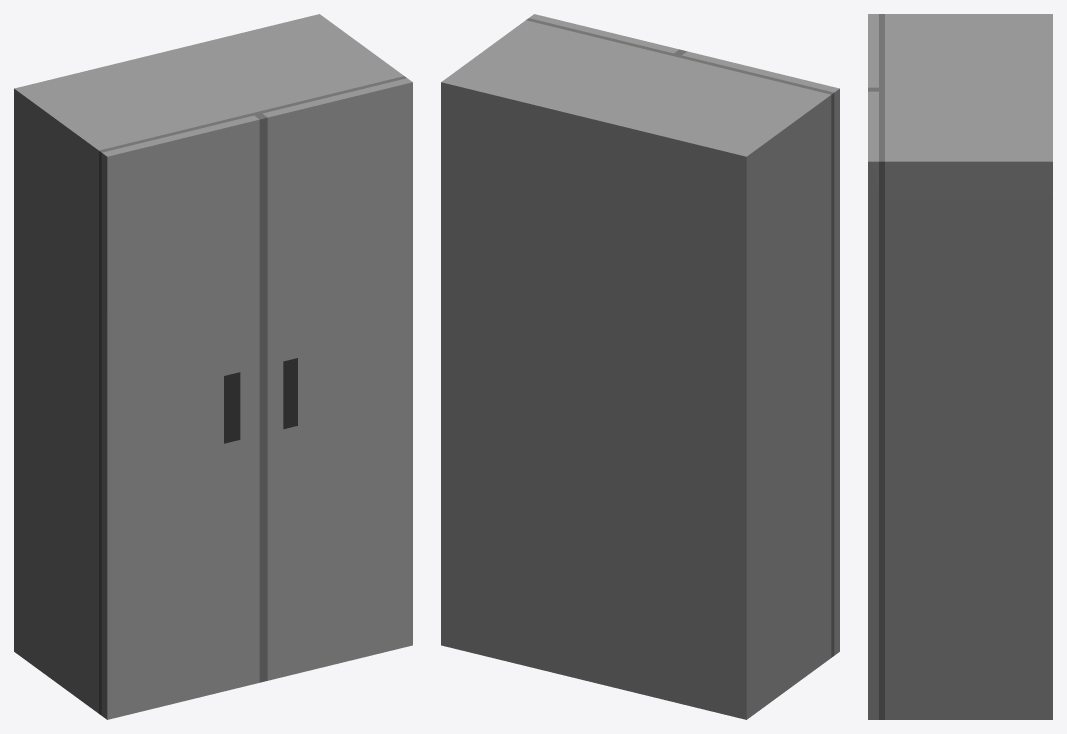
The model's file is Cabinet1.FBX.
3 views of the same model, side by side, from view 1: azimuth 30°, elevation 25°; view 2: azimuth 150°, elevation 25°; view 3: azimuth 270°, elevation 25° (orthographic).
Parts seen in each view (by area): view 1: SM_Cupboard_01; view 2: SM_Cupboard_01; view 3: SM_Cupboard_01.
Part boxes in pixels (x1,y1,x2,y2): SM_Cupboard_01: [14, 14, 412, 719]; SM_Cupboard_01: [441, 14, 839, 719]; SM_Cupboard_01: [868, 14, 1052, 719].
Size of the model in its own units: 67.46 by 119 by 35.65.
